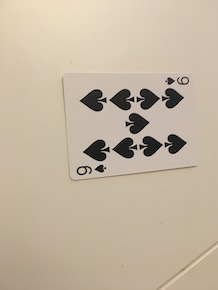NineOfSpades: (59, 68, 203, 183)
